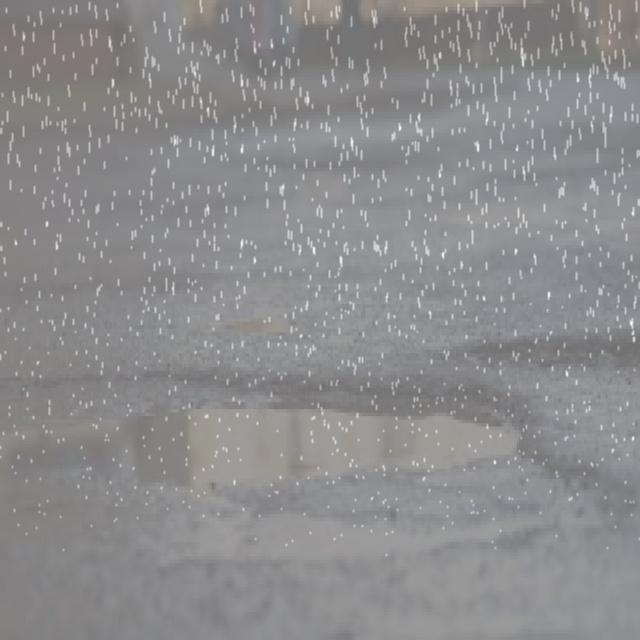Pothole: (0, 353, 533, 562), (479, 320, 640, 414)
